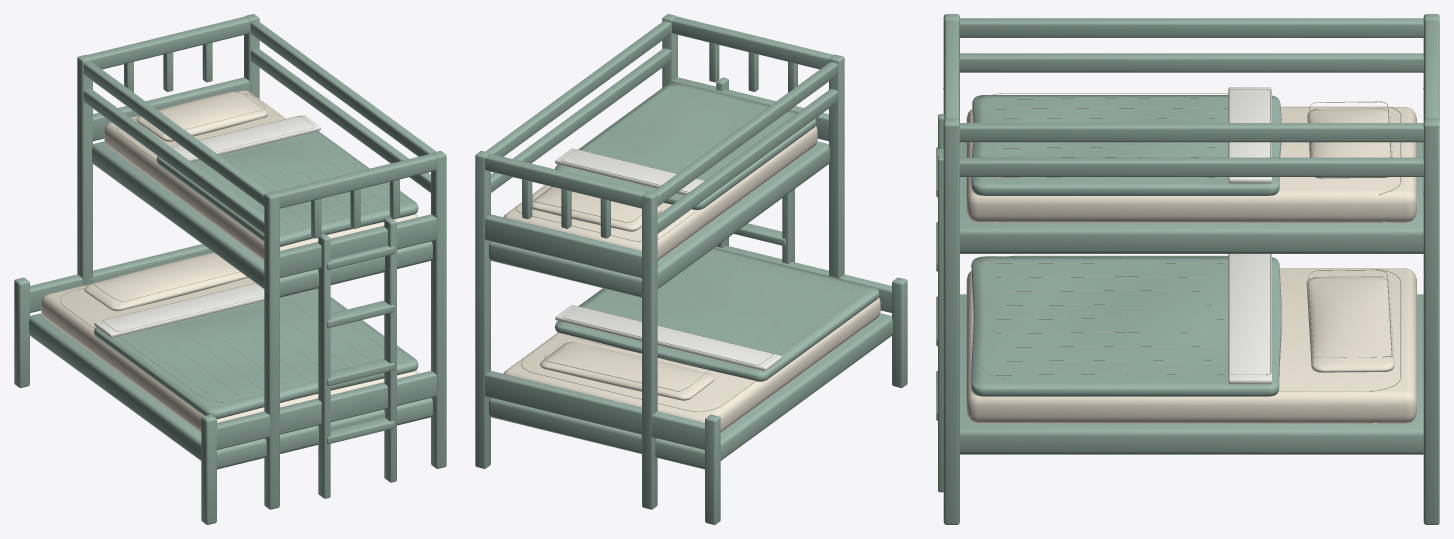
File: twin-full-bunk.glb
3 views of the same model, side by side, from view 1: azimuth 30°, elevation 25°; view 2: azimuth 150°, elevation 25°; view 3: azimuth 270°, elevation 25° (orthographic). The views are drawn at different scales.
Visible parts, largest first — view 1: catalog_surface_RealismUV; view 2: catalog_surface_RealismUV; view 3: catalog_surface_RealismUV.
Part boxes in pixels (x1,y1,x2,y2): catalog_surface_RealismUV: (14,14,446,524); catalog_surface_RealismUV: (475,14,907,524); catalog_surface_RealismUV: (936,14,1439,524).
Size of the model in its own units: 1.53 by 1.9 by 2.16.
